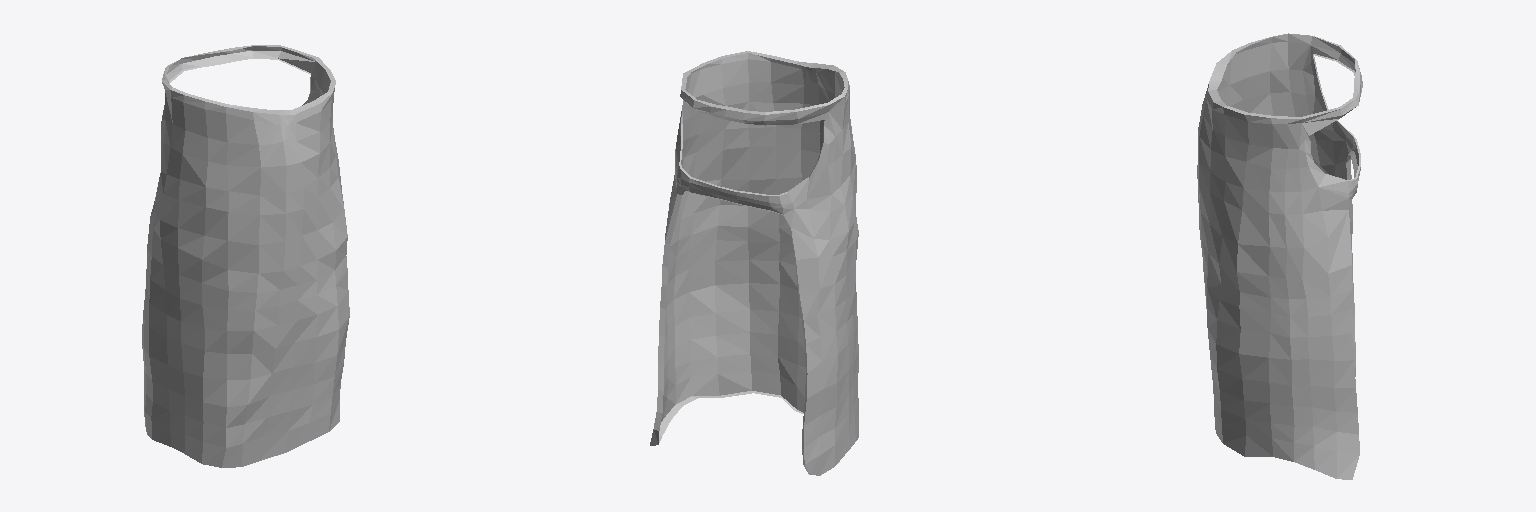
Rendered from Uth_Apron_MshShape.obj.
The picture shows the model from 3 angles: view 1: azimuth 30°, elevation 25°; view 2: azimuth 150°, elevation 25°; view 3: azimuth 270°, elevation 25°; orthographic projection.
Visible parts, largest first — view 1: Uth_Apron_Msh Uth_Body_Grp SkinnedMesh Mesh CharacterRoot; view 2: Uth_Apron_Msh Uth_Body_Grp SkinnedMesh Mesh CharacterRoot; view 3: Uth_Apron_Msh Uth_Body_Grp SkinnedMesh Mesh CharacterRoot.
Part boxes in pixels (left/top/right/bottom): Uth_Apron_Msh Uth_Body_Grp SkinnedMesh Mesh CharacterRoot: left=142, top=45, right=349, bottom=467; Uth_Apron_Msh Uth_Body_Grp SkinnedMesh Mesh CharacterRoot: left=650, top=51, right=858, bottom=475; Uth_Apron_Msh Uth_Body_Grp SkinnedMesh Mesh CharacterRoot: left=1197, top=33, right=1362, bottom=479.
Bounding box in the file's own units: 46.11 × 91.58 × 37.29.